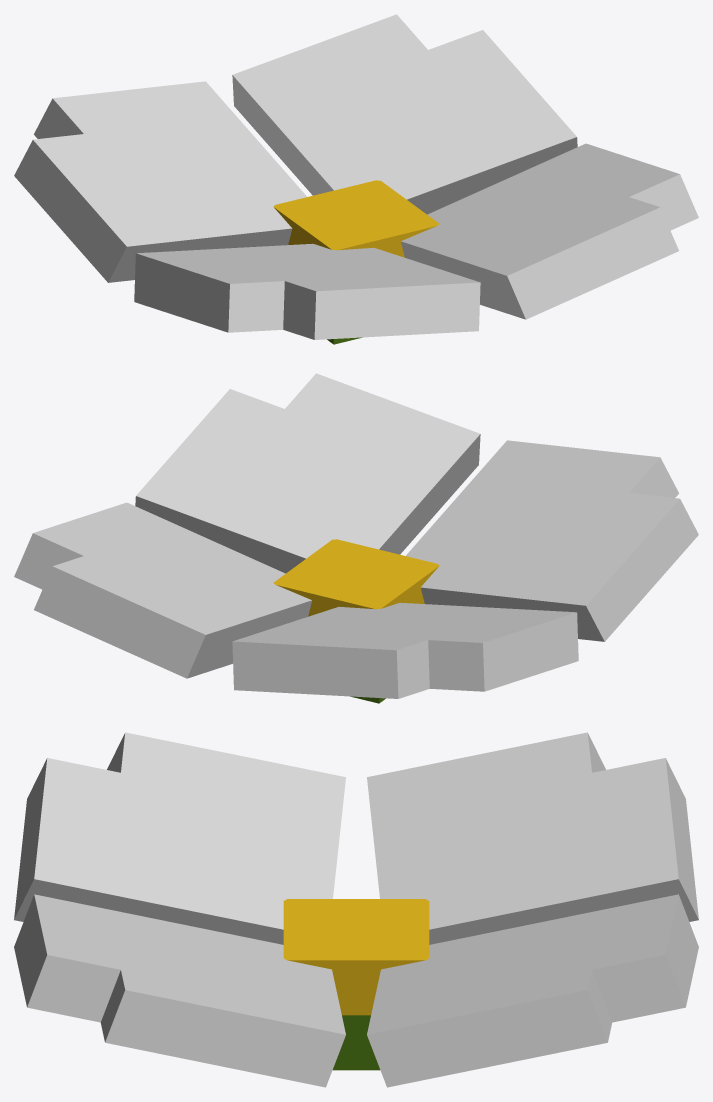
Rendered from flower.fbx.
3 views of the same model, one above another, from view 1: azimuth 30°, elevation 25°; view 2: azimuth 150°, elevation 25°; view 3: azimuth 270°, elevation 25° (orthographic). The views are drawn at different scales.
Parts seen in each view (by area): view 1: flower +; view 2: flower +; view 3: flower +.
Part boxes in pixels (bbox=[...]): flower +: bbox=[14, 14, 698, 344]; flower +: bbox=[14, 373, 698, 703]; flower +: bbox=[14, 732, 698, 1087].
Size of the model in its own units: 16.44 by 5.21 by 17.67.
